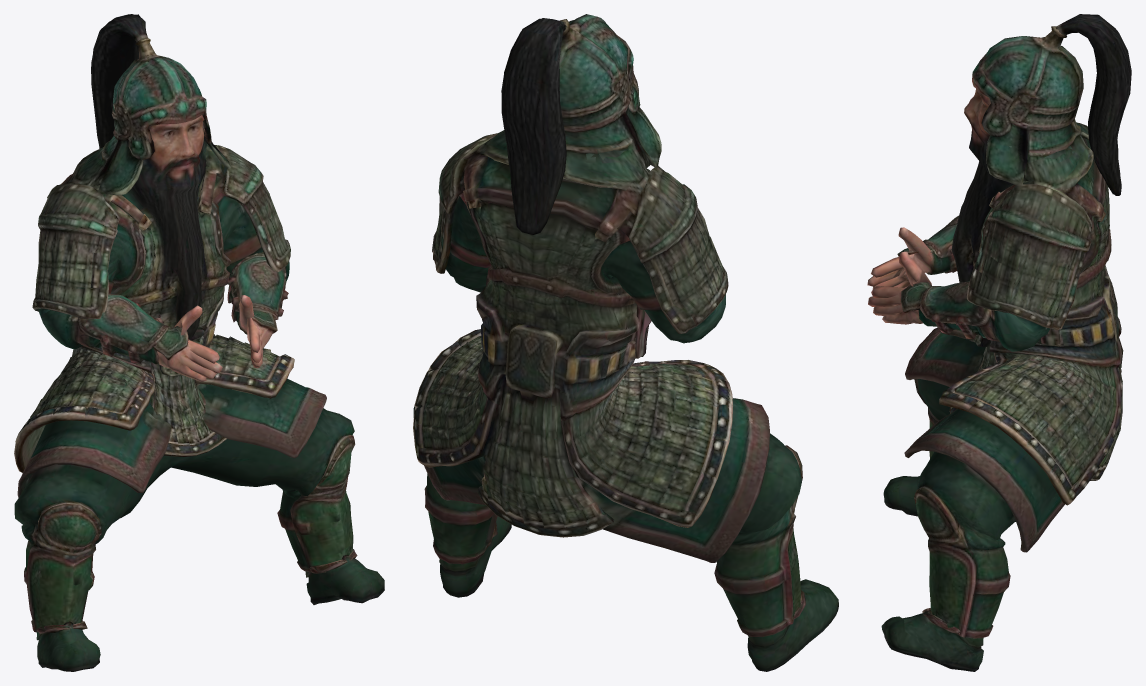
File: guan-yu.glb
3 renders of one model, left to right at view 1: azimuth 30°, elevation 25°; view 2: azimuth 150°, elevation 25°; view 3: azimuth 270°, elevation 25°, orthographic. The views are drawn at different scales.
Bounding box in the file's own units: 1.14 × 1.89 × 0.7697.
Materials: 1 (1 with a texture image).
